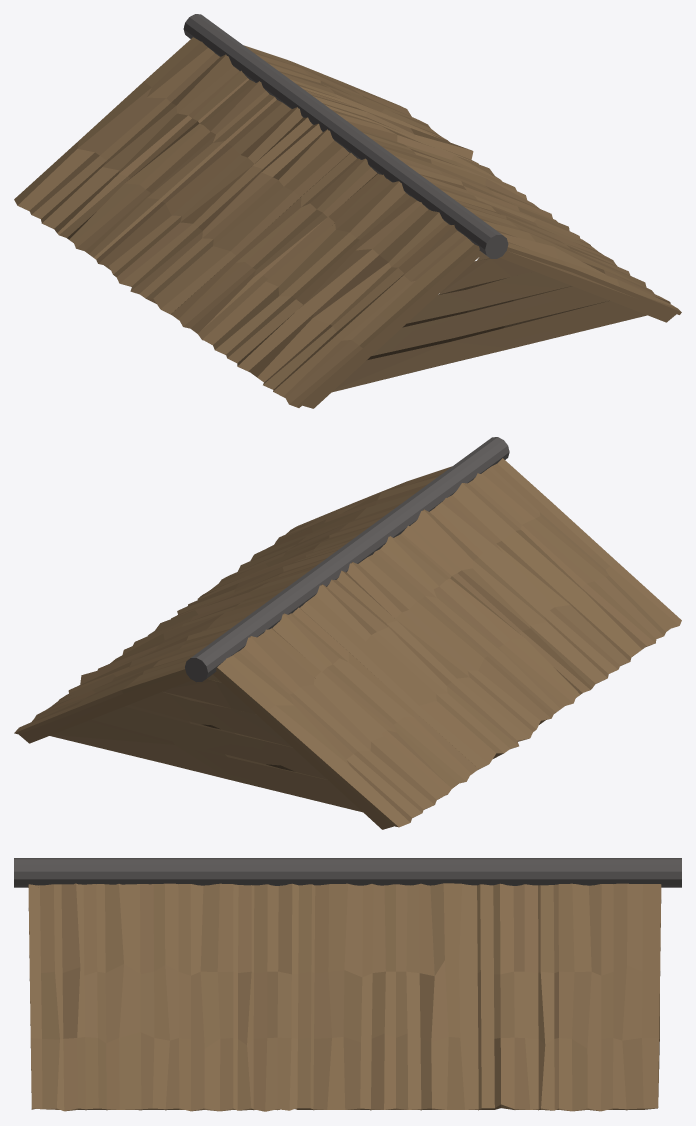
The model's file is SM_Env_Roof_17.fbx.
3 views of the same model, one above another, from view 1: azimuth 30°, elevation 25°; view 2: azimuth 150°, elevation 25°; view 3: azimuth 270°, elevation 25° (orthographic). The views are drawn at different scales.
Visible parts, largest first — view 1: SM_Env_Roof_17; view 2: SM_Env_Roof_17; view 3: SM_Env_Roof_17.
Part boxes in pixels (x1,y1,x2,y2): SM_Env_Roof_17: [14, 14, 681, 408]; SM_Env_Roof_17: [14, 437, 681, 829]; SM_Env_Roof_17: [14, 858, 681, 1111].
Size of the model in its own units: 279 by 92.45 by 368.
Materials: 1 (1 with a texture image).
